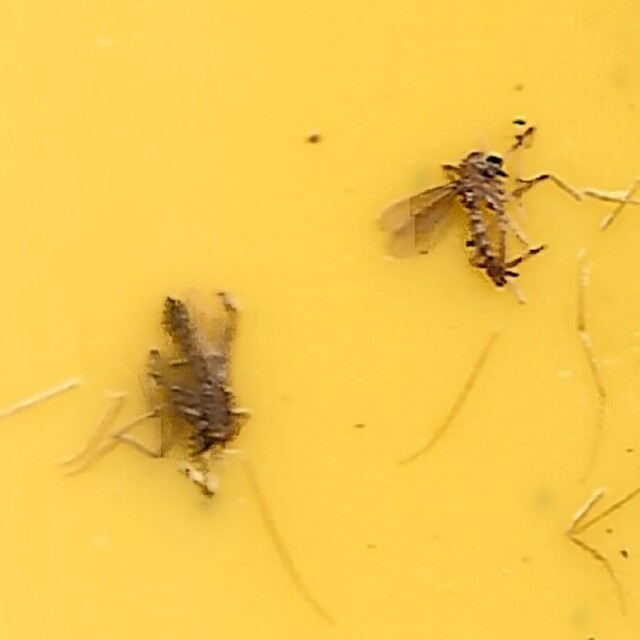Nematocera: (121, 273, 255, 497), (374, 143, 519, 291)
